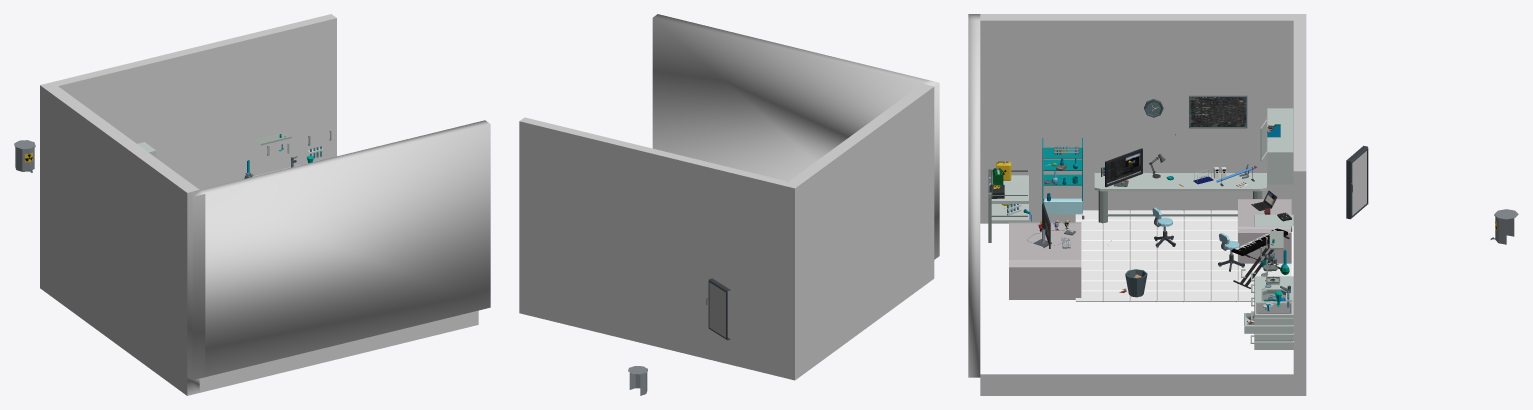
File: laboratorio.glb
The picture shows the model from 3 angles, left to right: view 1: azimuth 30°, elevation 25°; view 2: azimuth 150°, elevation 25°; view 3: azimuth 270°, elevation 25°; orthographic projection. The views are drawn at different scales.
Visible parts, largest first — view 1: floor_and_walls, base; view 2: floor_and_walls, door.001, base; view 3: floor_and_walls, tile, table1.001, cane, shelf, table1, frame .001, legs1, bottom_shelf1, cane2, screen, teclado.001 (+4 smaller).
Part boxes in pixels (x1,y1,x2,y2): floor_and_walls: (40, 14, 490, 395); base: (14, 140, 35, 171); floor_and_walls: (519, 14, 939, 380); door.001: (709, 282, 725, 337); base: (628, 366, 647, 395); floor_and_walls: (968, 14, 1306, 395); tile: (1075, 210, 1291, 301); table1.001: (1009, 222, 1081, 299); cane: (1094, 173, 1266, 223); shelf: (1260, 108, 1293, 184); table1: (1238, 199, 1291, 263); frame .001: (1189, 95, 1247, 128); legs1: (1042, 138, 1084, 219); bottom_shelf1: (1244, 302, 1293, 349); cane2: (988, 168, 1028, 242); screen: (1105, 148, 1142, 187); teclado.001: (1231, 228, 1289, 288).
Size of what is drawn, in the model's own units: 3.39 by 2.21 by 4.91.
44 materials, 4 textured.
